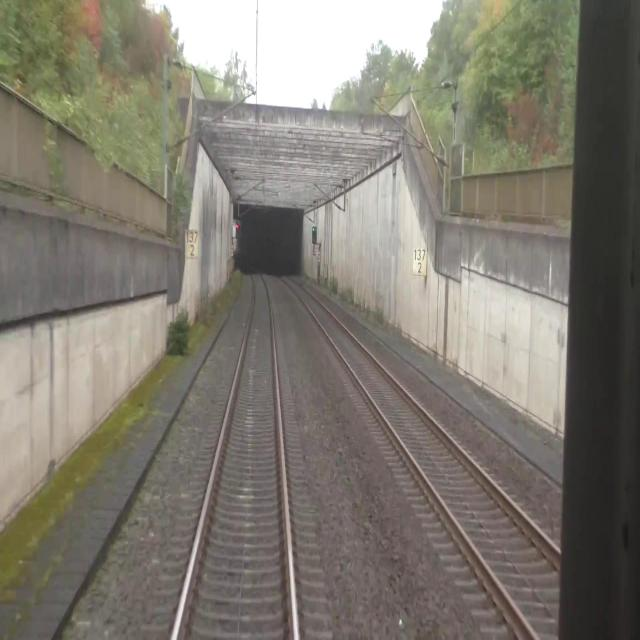rail-track: (262, 262, 605, 639), (175, 261, 293, 639)
